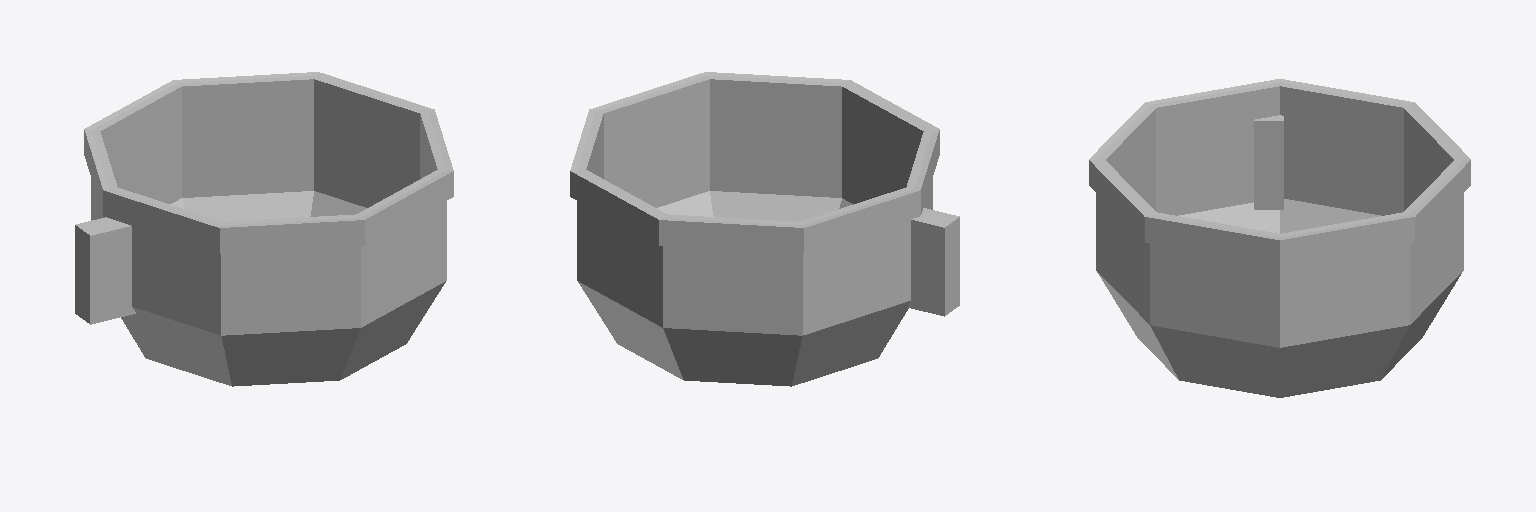
File: ChamberPot.obj
3 renders of one model, left to right at view 1: azimuth 30°, elevation 25°; view 2: azimuth 150°, elevation 25°; view 3: azimuth 270°, elevation 25°, orthographic.
Visible parts, largest first — view 1: ChamberPot; view 2: ChamberPot; view 3: ChamberPot.
Part boxes in pixels (left/top/right/bottom): ChamberPot: left=75, top=72, right=453, bottom=386; ChamberPot: left=570, top=72, right=959, bottom=386; ChamberPot: left=1089, top=79, right=1470, bottom=397.
Bounding box in the file's own units: 0.6089 × 0.3347 × 0.5645.